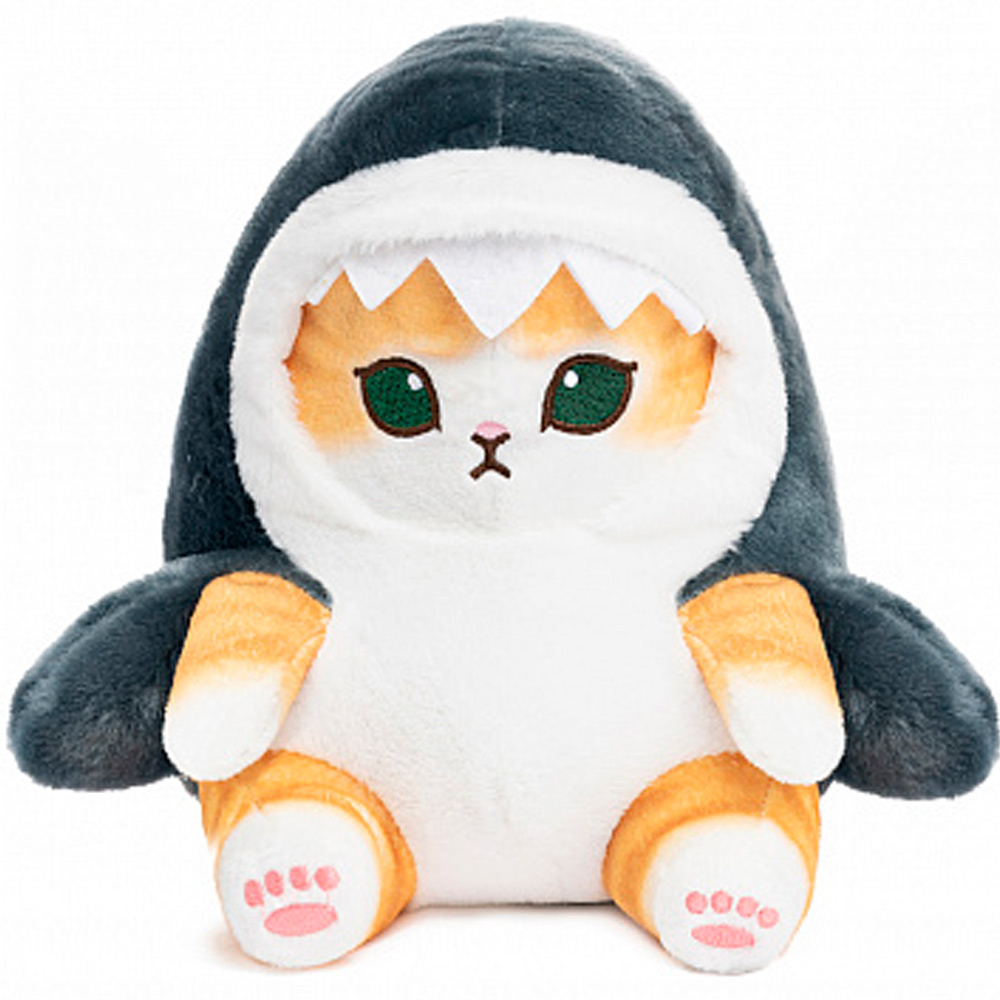cat_shark: (4, 13, 1000, 979)
